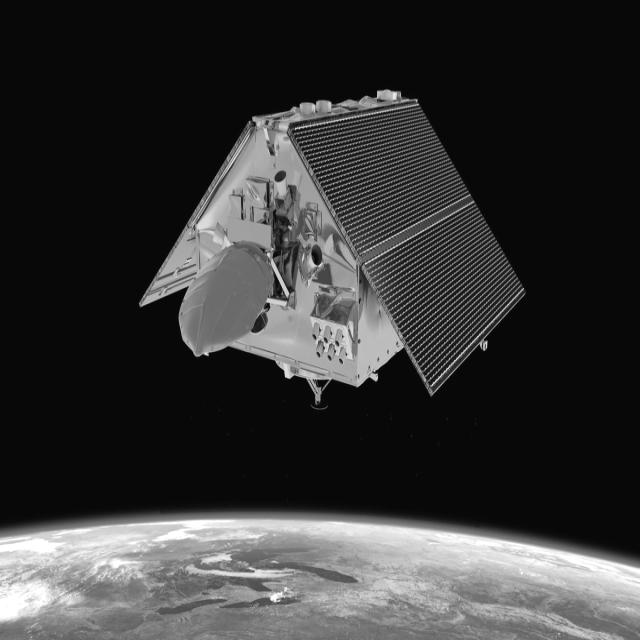medium_debris: (133, 81, 530, 411)
